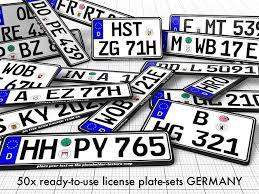0: (219, 65, 230, 73)
1: (224, 136, 241, 155), (219, 40, 231, 57), (240, 93, 254, 107), (137, 39, 147, 55), (142, 76, 161, 84), (244, 65, 256, 74), (120, 74, 131, 83)
2: (208, 134, 224, 152), (54, 101, 70, 117), (135, 80, 155, 90), (225, 93, 239, 106)
3: (190, 129, 209, 148), (244, 20, 255, 36), (63, 44, 80, 53)
4: (28, 22, 37, 36), (59, 38, 73, 46)
5: (148, 136, 166, 156), (232, 20, 244, 36), (11, 25, 23, 39), (206, 65, 219, 72)
6: (133, 136, 150, 157), (3, 79, 17, 91)
7: (114, 136, 131, 157), (232, 40, 243, 57), (126, 40, 137, 56), (80, 87, 93, 98), (95, 86, 107, 97)
8: (193, 109, 210, 126)
9: (69, 52, 85, 60), (232, 65, 243, 73)
A: (14, 90, 27, 101), (98, 72, 109, 81)
B: (112, 99, 134, 110), (205, 38, 218, 55), (18, 42, 31, 58), (22, 65, 37, 76)
D: (31, 1, 47, 9)
E: (246, 40, 258, 59), (146, 69, 166, 78), (45, 89, 60, 100), (51, 27, 67, 37)
F: (182, 18, 194, 32), (57, 0, 69, 10)
G: (168, 124, 184, 142), (109, 40, 120, 56)
H: (19, 139, 39, 161), (39, 138, 58, 160), (153, 119, 169, 139), (196, 83, 217, 93), (110, 21, 122, 37), (146, 39, 158, 55), (107, 86, 122, 96)
I: (62, 69, 71, 79)
K: (18, 109, 36, 126)
L: (190, 64, 202, 72)
M: (170, 36, 183, 52), (205, 20, 216, 35)
N: (71, 71, 85, 79)
O: (106, 106, 125, 116), (16, 6, 27, 21), (212, 76, 229, 84), (13, 64, 25, 75), (37, 8, 51, 16)
P: (74, 137, 91, 159), (46, 20, 61, 28)
R: (83, 5, 95, 22), (66, 0, 78, 16), (1, 26, 12, 42), (204, 80, 224, 88)
S: (122, 22, 133, 38), (0, 116, 8, 134)
T: (216, 19, 228, 35), (95, 8, 105, 24), (133, 22, 143, 37)
V: (127, 86, 146, 95)
W: (94, 113, 118, 126), (2, 62, 17, 75), (195, 37, 206, 54)
Y: (92, 136, 110, 159), (34, 105, 49, 123)
Z: (30, 39, 44, 56), (98, 40, 110, 56), (61, 88, 75, 99)
